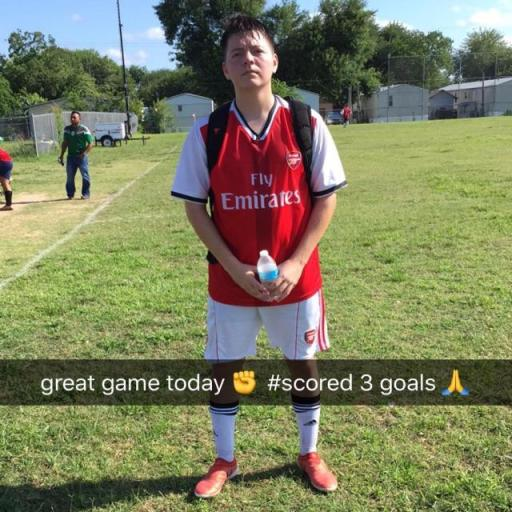Emirates: (219, 171, 301, 212)
